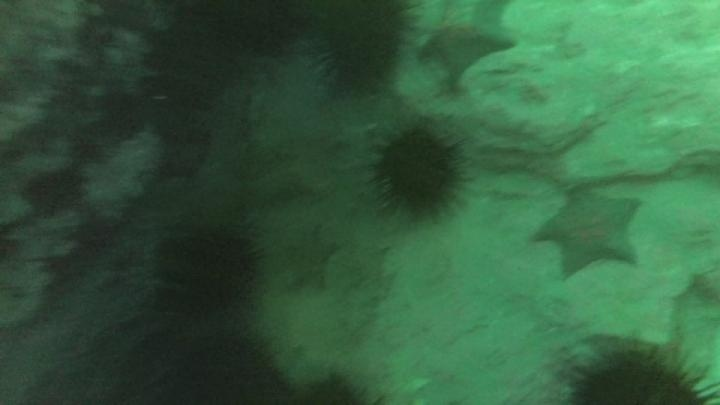echinus: (140, 1, 303, 113), (156, 219, 263, 319), (309, 2, 415, 96), (170, 321, 291, 403), (565, 339, 716, 404), (369, 123, 467, 220), (293, 368, 373, 405)
starfish: (530, 187, 647, 281), (414, 3, 519, 90), (276, 221, 342, 291)
